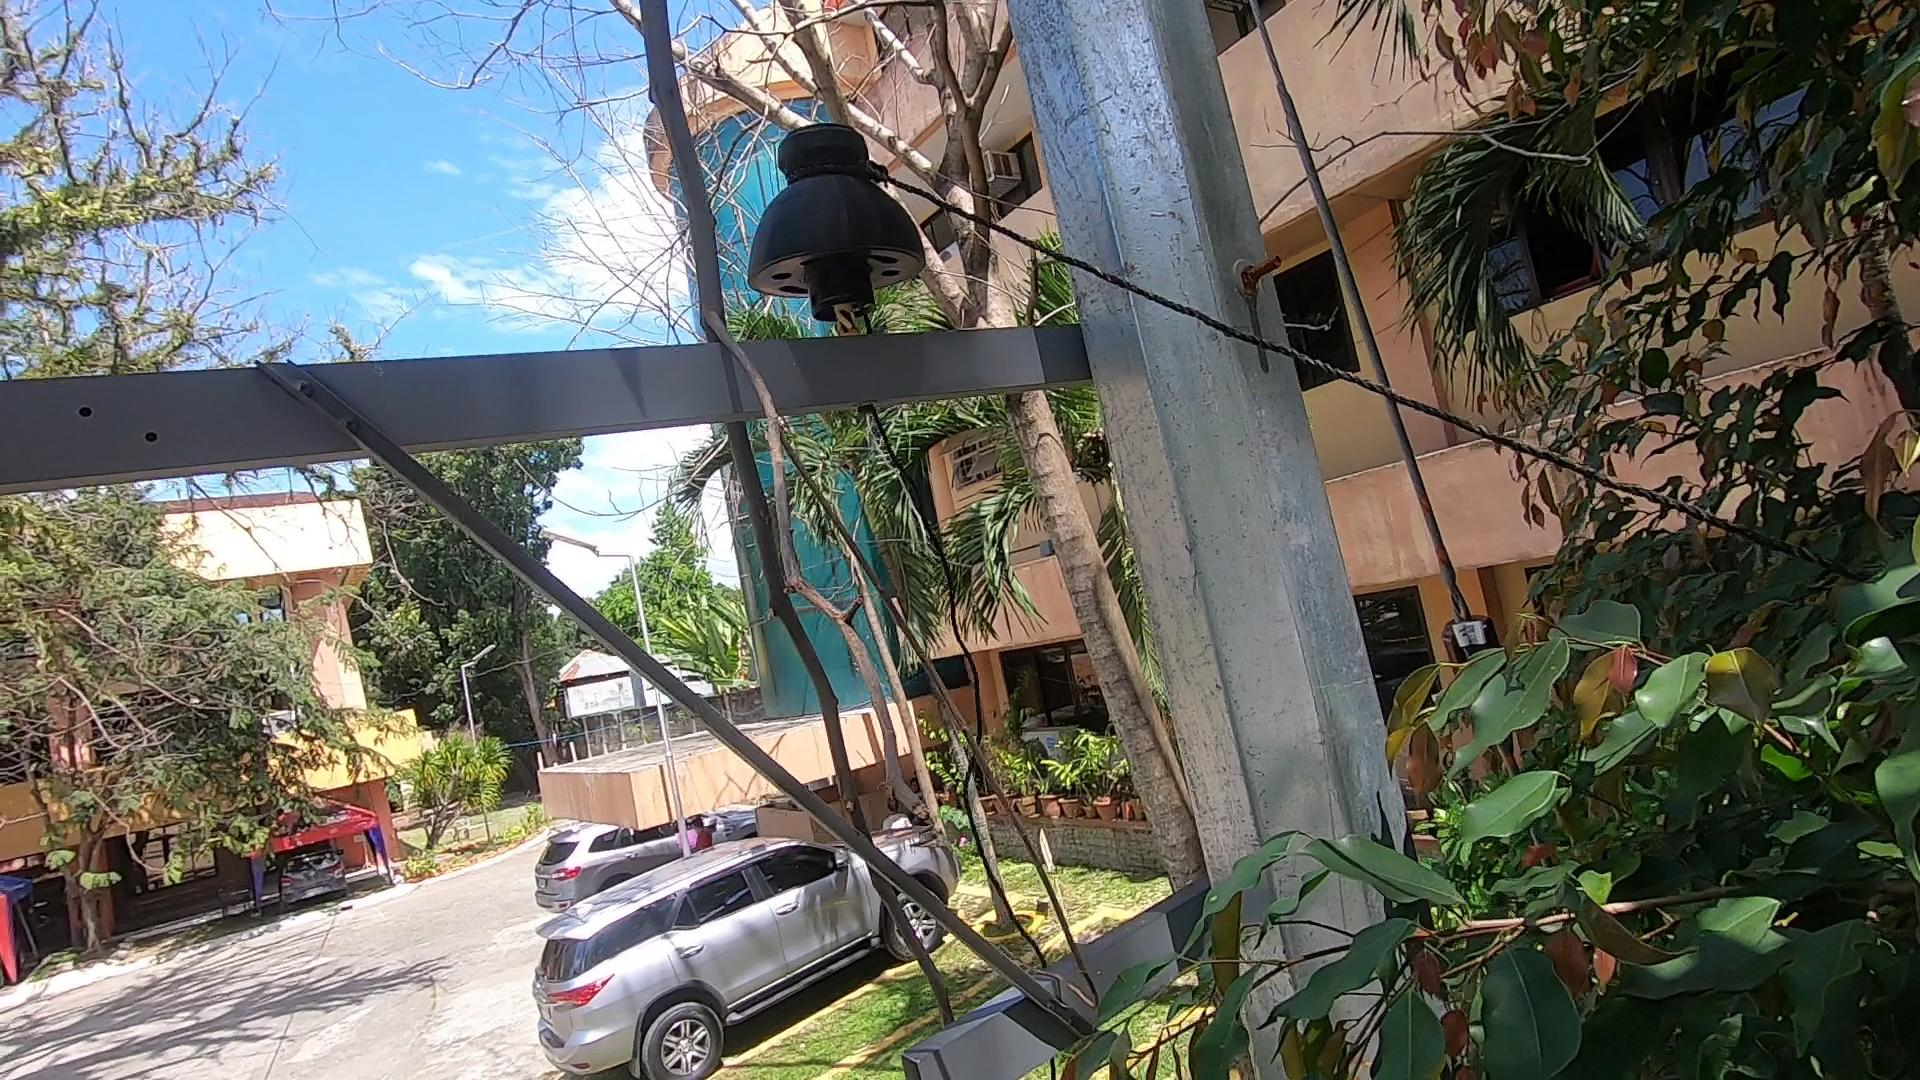tree branch: (592, 3, 1077, 1044)
